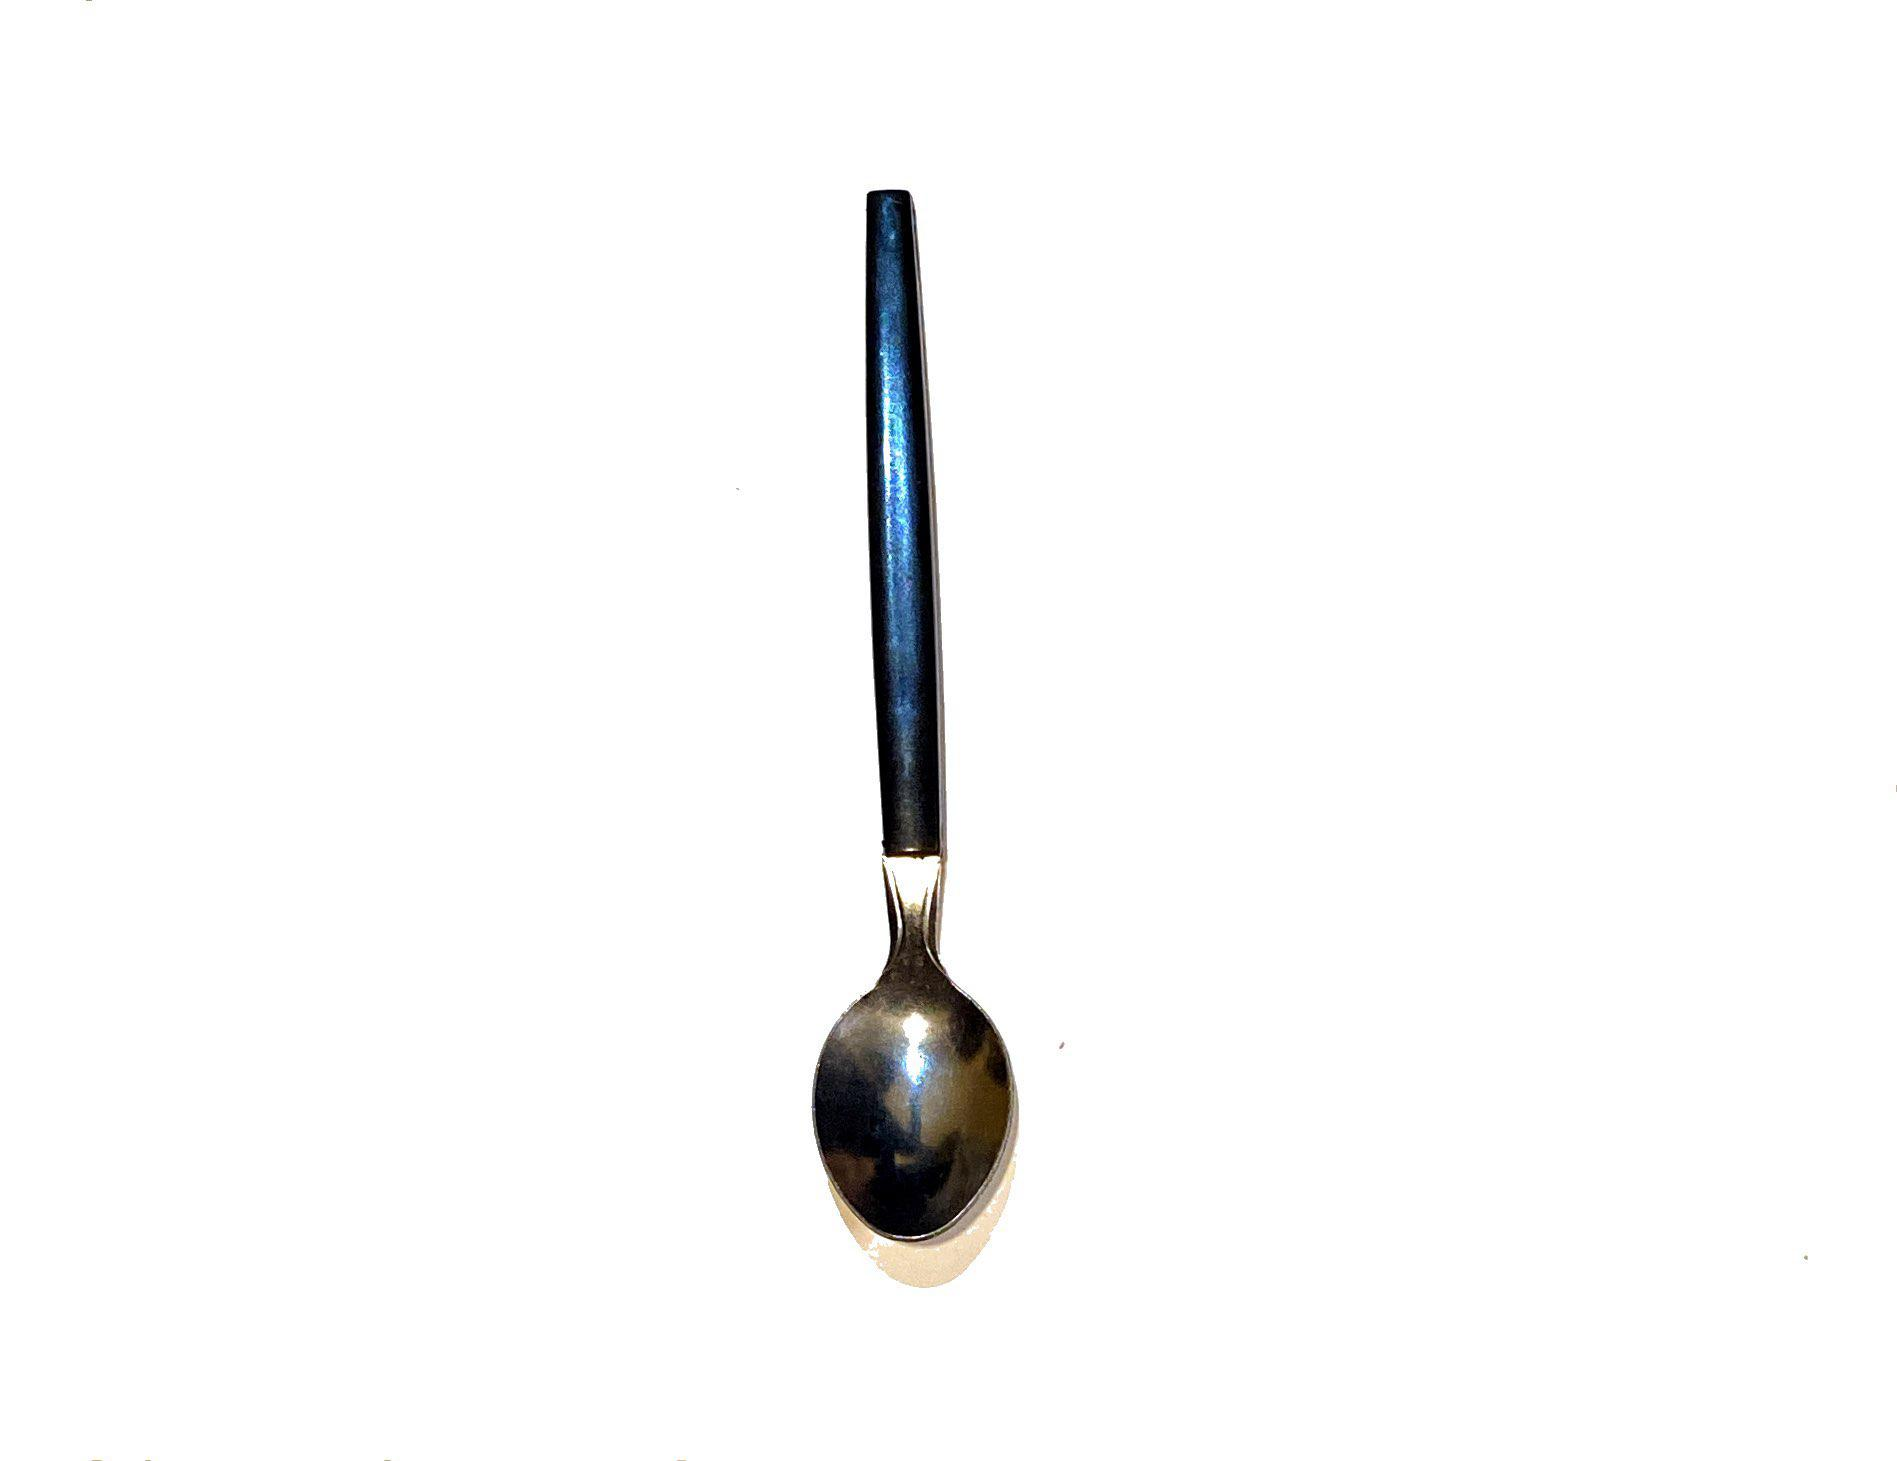Spoon: (714, 126, 1243, 1380)
